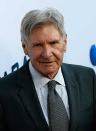male: (17, 9, 72, 81)
